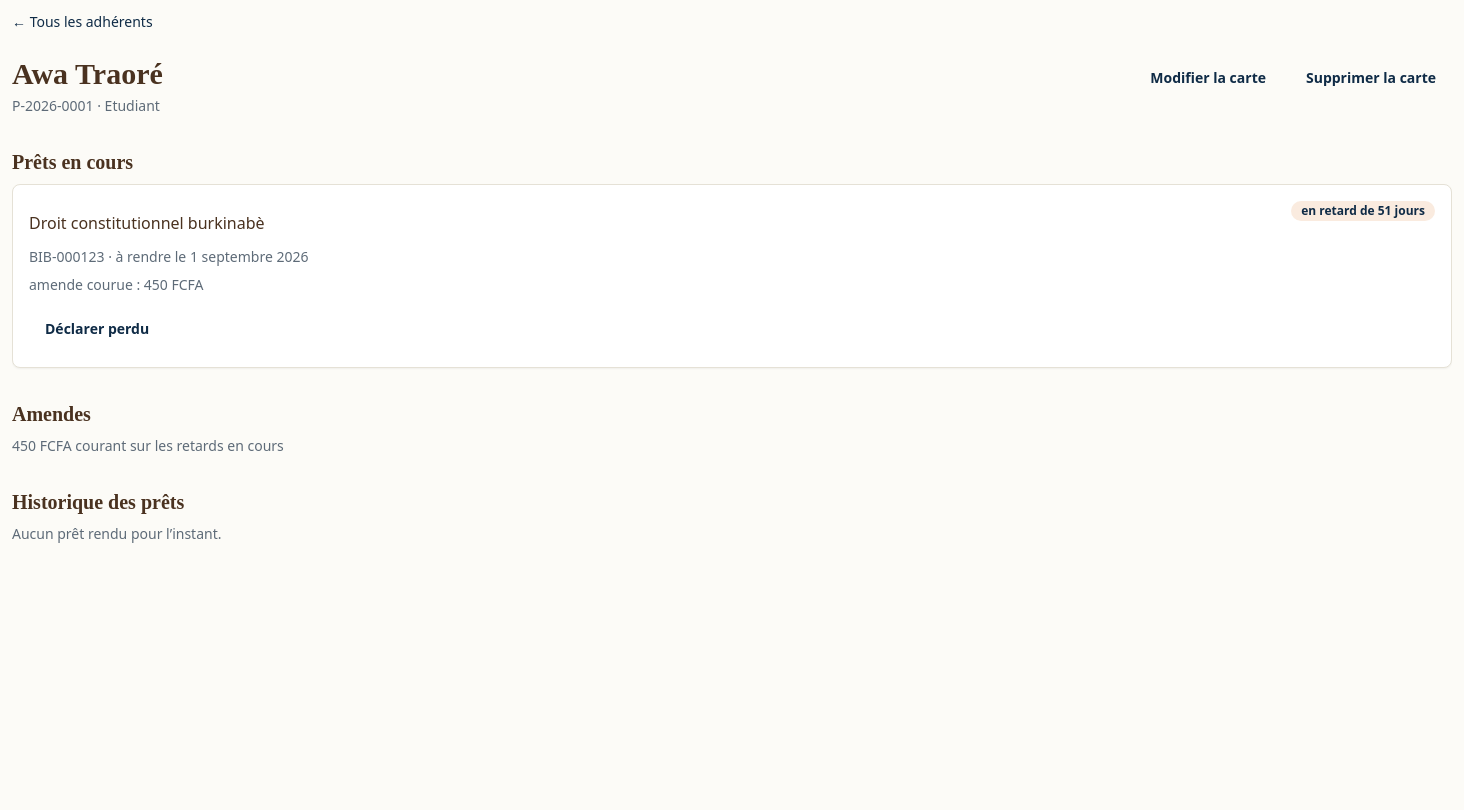
Test: ⚠ 6 · la suppression, le seul endroit où une erreur détruit › la confirmation NOMME la personne, jamais « êtes-vous sûr ? »
The image size is (1464, 810).
expect the heading "Awa Traoré" is shown: met, box x1=12 y1=56 x2=163 y2=92
Click the button "Supprimer la carte".
click(1371, 78)  # box x1=1290 y1=56 x2=1452 y2=100
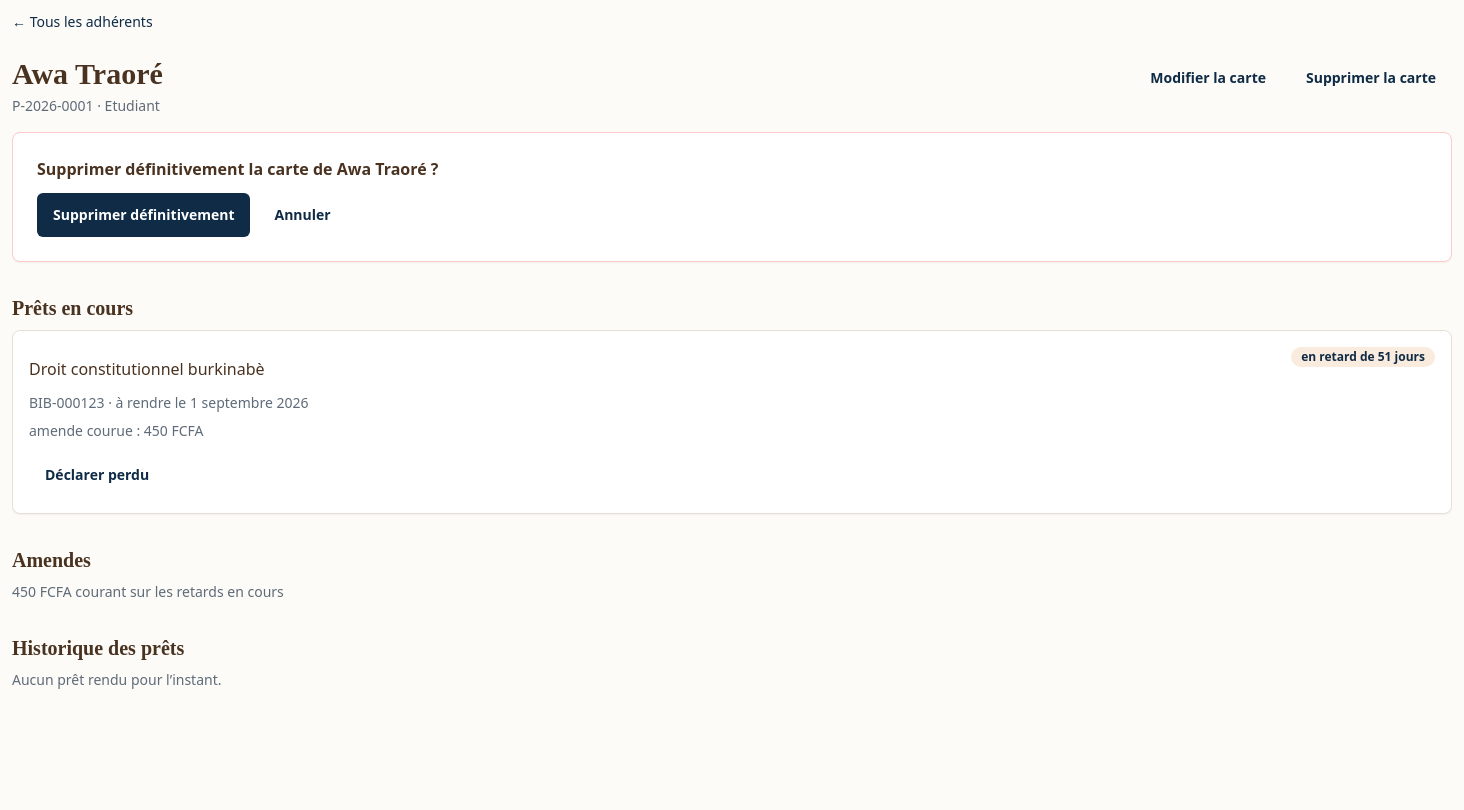
expect the text "Supprimer définitivement la carte de Awa Traoré ?" is shown: met, box x1=37 y1=158 x2=438 y2=180
